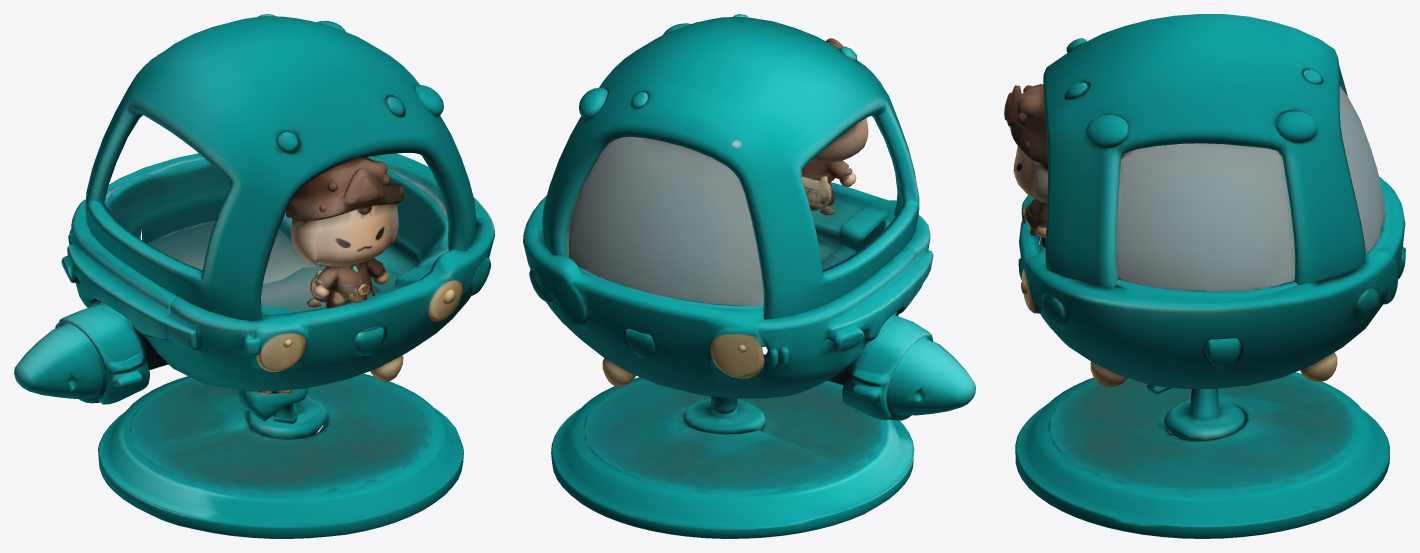
Rendered from cambodia-knight.glb.
3 renders of one model, left to right at view 1: azimuth 30°, elevation 25°; view 2: azimuth 150°, elevation 25°; view 3: azimuth 270°, elevation 25°, orthographic. The views are drawn at different scales.
Parts seen in each view (by area): view 1: tripo_49091a59_74b5_45c6_aad0_64a4a007db0a; view 2: tripo_49091a59_74b5_45c6_aad0_64a4a007db0a; view 3: tripo_49091a59_74b5_45c6_aad0_64a4a007db0a.
Boxes of the visible parts, x1,y1,x2,y2 form: tripo_49091a59_74b5_45c6_aad0_64a4a007db0a: (14,14,494,538); tripo_49091a59_74b5_45c6_aad0_64a4a007db0a: (523,14,975,538); tripo_49091a59_74b5_45c6_aad0_64a4a007db0a: (1004,14,1405,538).
Bounding box in the file's own units: 0.9995 × 0.9458 × 0.7944.
1 material, 1 textured.
